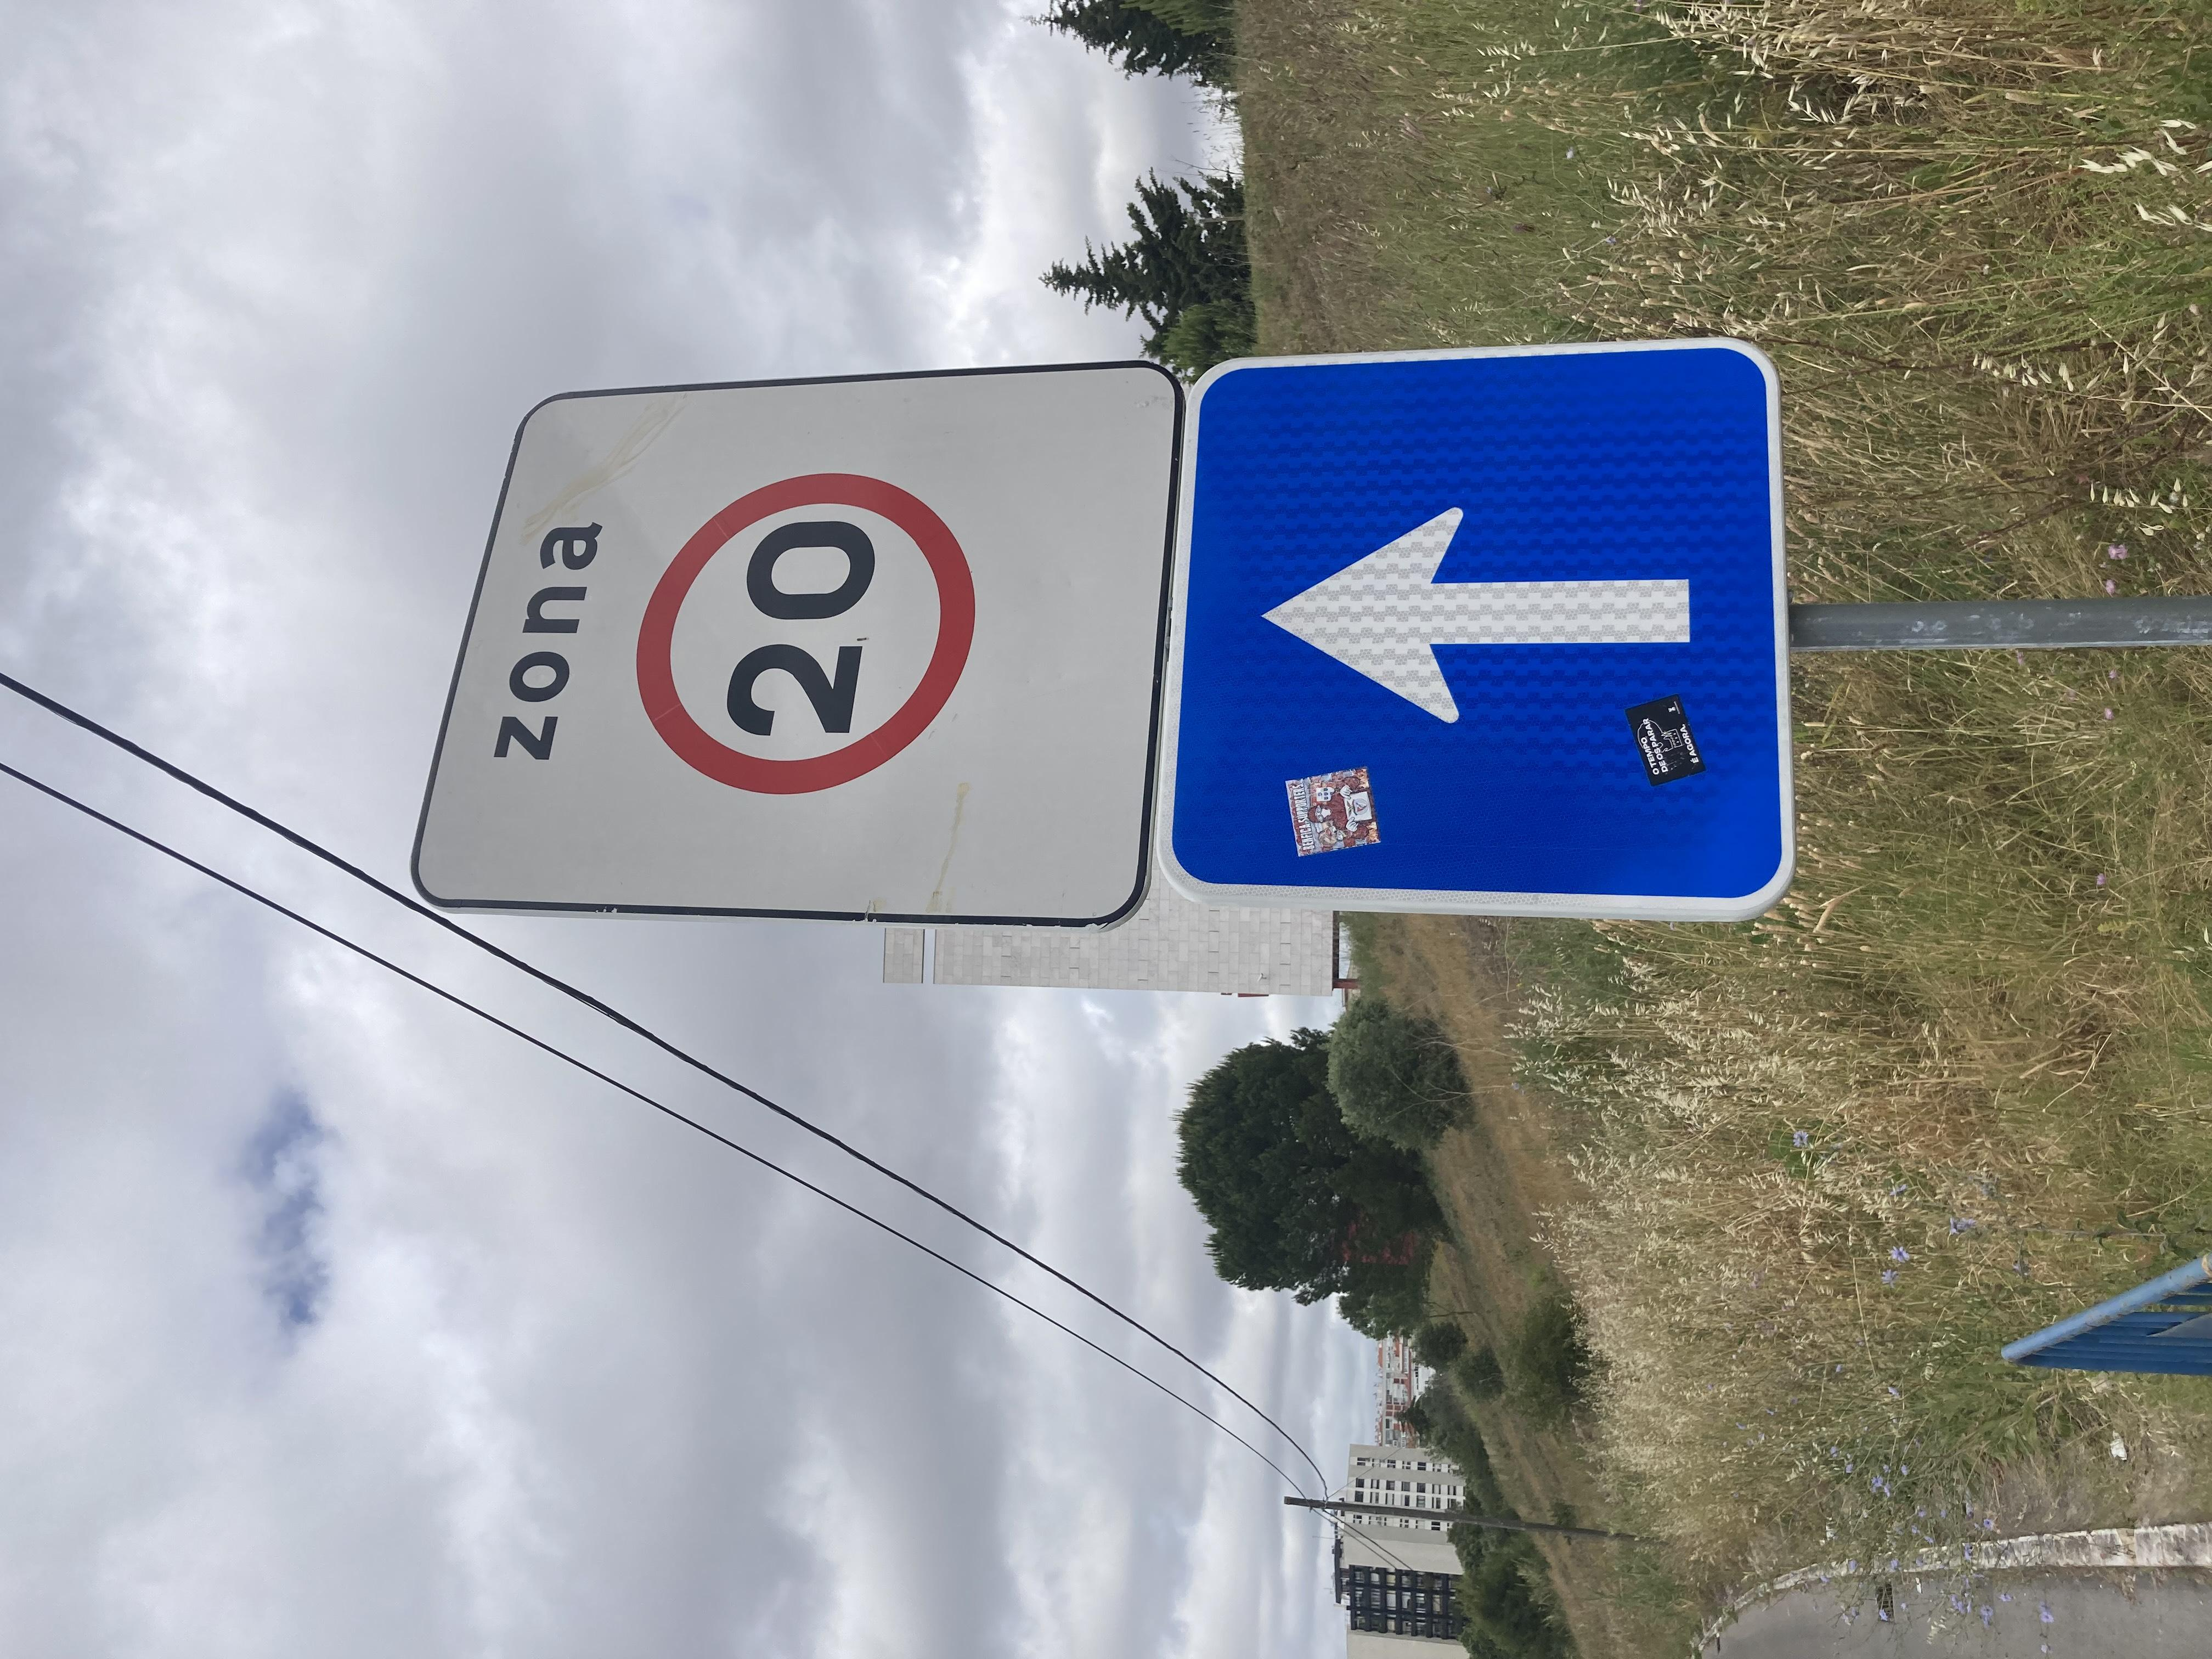limite de velocidade: (1017, 293, 1726, 885)
sentido obrigatorio: (1017, 889, 1792, 1324)
